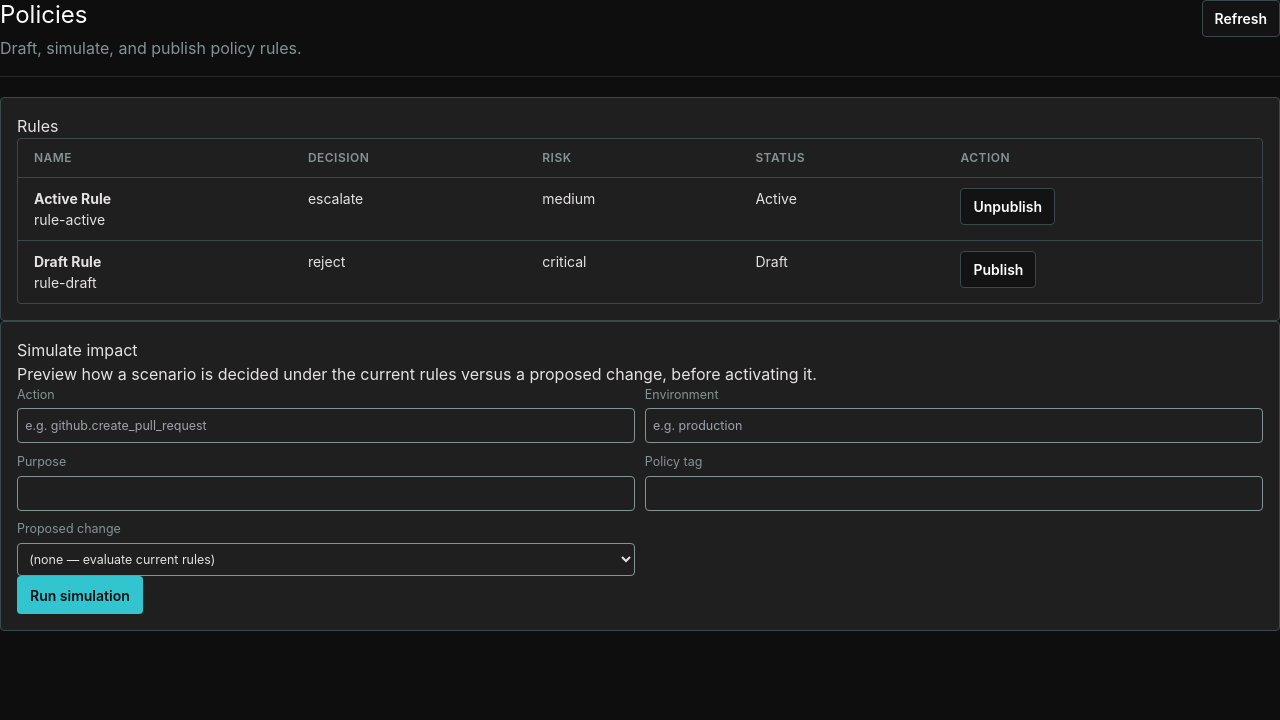
Scenario: Policies integration › runs a simulation and renders the impact diff
Expected: the text "Active Rule" is shown, left=34, top=190, right=111, bottom=207
In the field with placeholder "e.g. github.create_pull_request": (326, 426) left=17, top=408, right=635, bottom=443, type "secret.export"
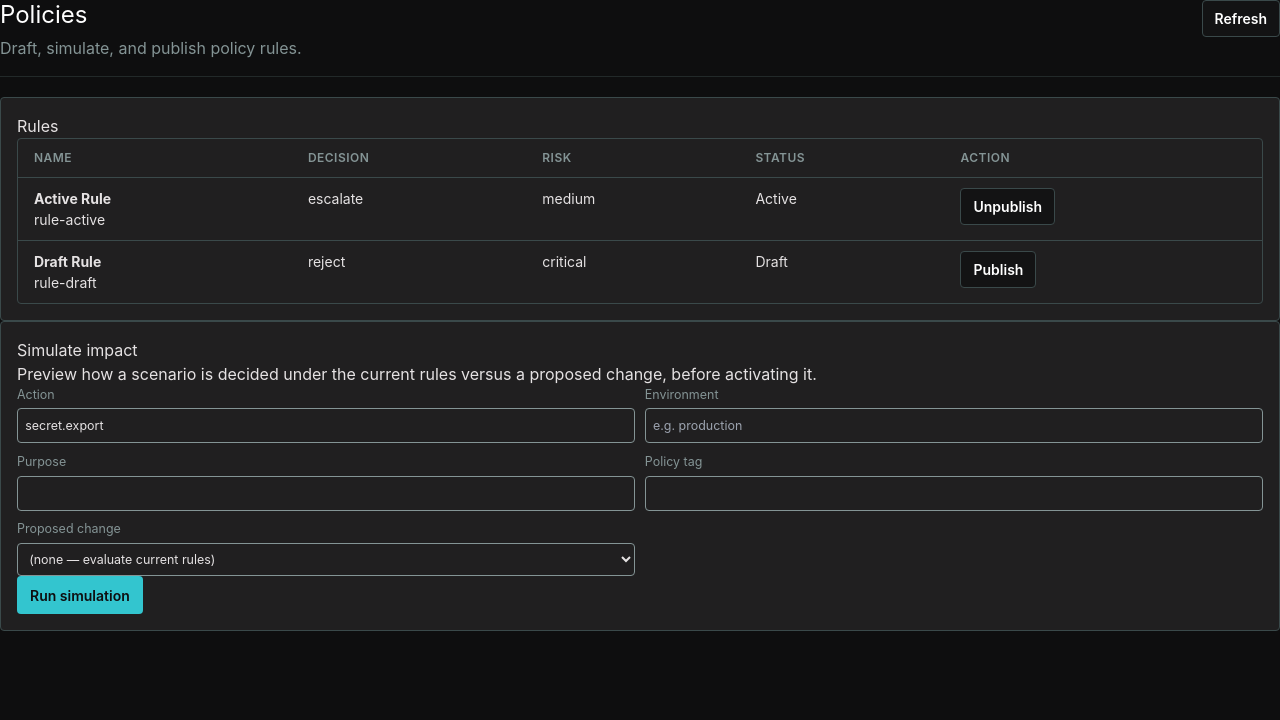
Click the button "Run simulation": click(80, 595) left=17, top=576, right=143, bottom=614
(page scrolled)
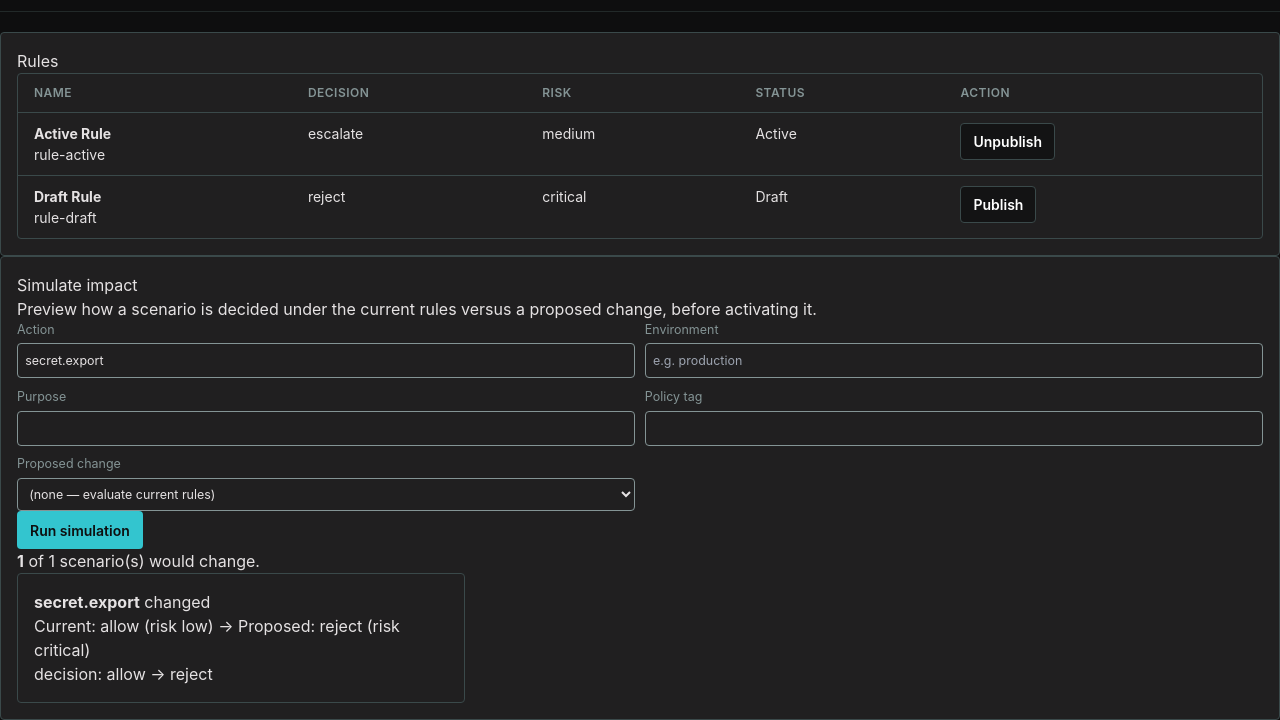
Expected: the list item "decision: allow → reject" is shown, left=34, top=664, right=213, bottom=684
